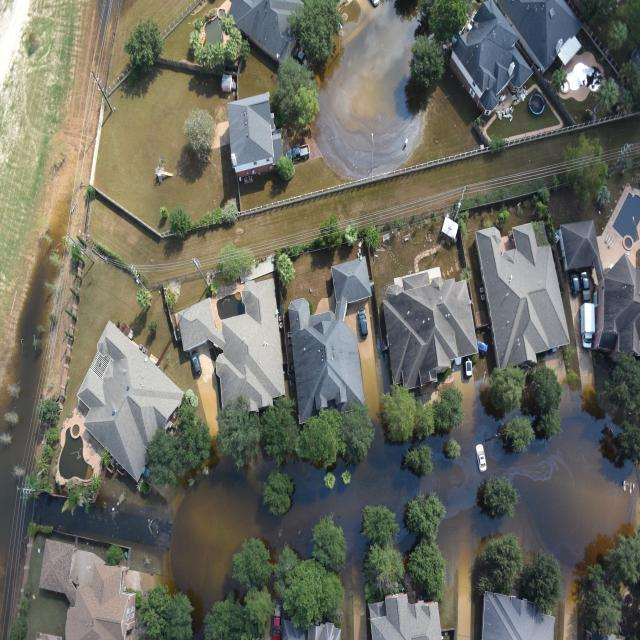fire: (170, 380, 640, 639), (315, 0, 424, 177), (33, 494, 171, 551)
